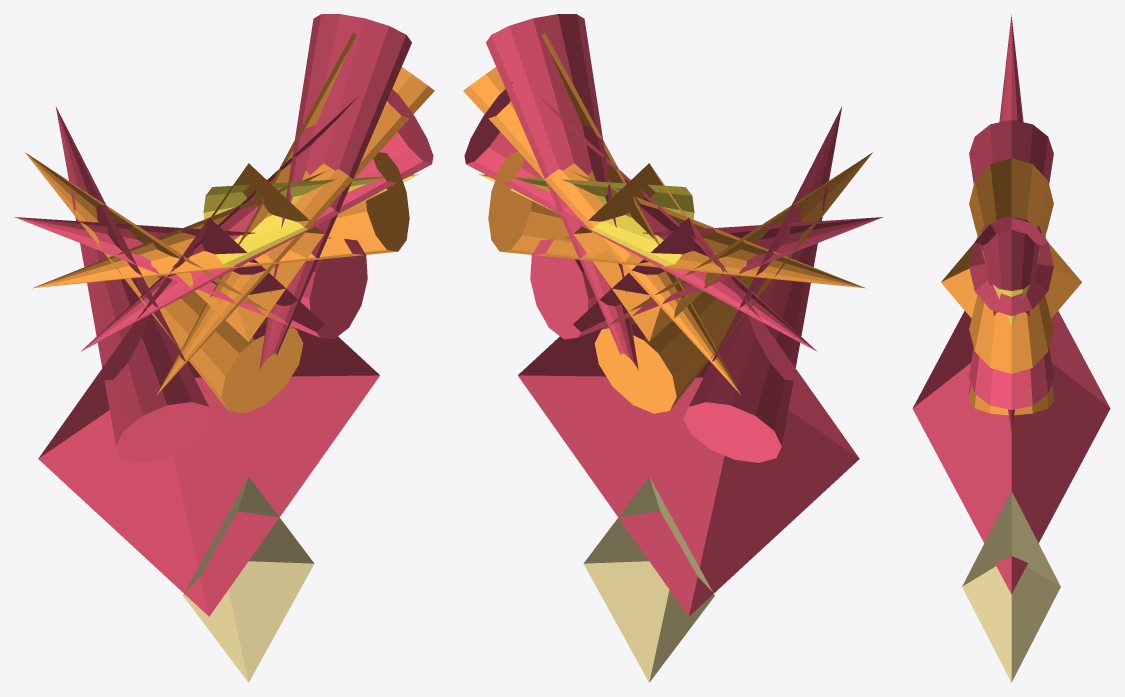
File: minglora_phoenix.gltf
The picture shows the model from 3 angles, left to right: view 1: azimuth 30°, elevation 25°; view 2: azimuth 150°, elevation 25°; view 3: azimuth 270°, elevation 25°; orthographic projection. The views are drawn at different scales.
Parts seen in each view (by area): view 1: minglora_phoenix_0, minglora_phoenix_3, minglora_phoenix_9, minglora_phoenix_4, minglora_phoenix_10, minglora_phoenix_6, minglora_phoenix_8, minglora_phoenix_5, minglora_phoenix_7, minglora_phoenix_1, minglora_phoenix_2; view 2: minglora_phoenix_0, minglora_phoenix_3, minglora_phoenix_9, minglora_phoenix_4, minglora_phoenix_10, minglora_phoenix_6, minglora_phoenix_8, minglora_phoenix_5, minglora_phoenix_7, minglora_phoenix_1, minglora_phoenix_2; view 3: minglora_phoenix_0, minglora_phoenix_10, minglora_phoenix_9, minglora_phoenix_8, minglora_phoenix_6, minglora_phoenix_7, minglora_phoenix_5, minglora_phoenix_1, minglora_phoenix_3, minglora_phoenix_4.
Part boxes in pixels (left/top/right/bottom): minglora_phoenix_0: left=38, top=217, right=379, bottom=616; minglora_phoenix_3: left=55, top=106, right=214, bottom=462; minglora_phoenix_9: left=253, top=14, right=411, bottom=410; minglora_phoenix_4: left=25, top=152, right=303, bottom=413; minglora_phoenix_10: left=183, top=476, right=314, bottom=682; minglora_phoenix_6: left=32, top=152, right=409, bottom=288; minglora_phoenix_8: left=157, top=33, right=434, bottom=394; minglora_phoenix_5: left=14, top=217, right=367, bottom=339; minglora_phoenix_7: left=80, top=82, right=433, bottom=351; minglora_phoenix_1: left=173, top=163, right=323, bottom=341; minglora_phoenix_2: left=203, top=174, right=419, bottom=265; minglora_phoenix_0: left=518, top=217, right=859, bottom=616; minglora_phoenix_3: left=683, top=106, right=842, bottom=462; minglora_phoenix_9: left=486, top=14, right=644, bottom=410; minglora_phoenix_4: left=594, top=152, right=872, bottom=413; minglora_phoenix_10: left=583, top=476, right=714, bottom=682; minglora_phoenix_6: left=488, top=152, right=865, bottom=288; minglora_phoenix_8: left=463, top=33, right=740, bottom=394; minglora_phoenix_5: left=530, top=217, right=883, bottom=339; minglora_phoenix_7: left=464, top=82, right=817, bottom=351; minglora_phoenix_1: left=574, top=163, right=724, bottom=341; minglora_phoenix_2: left=478, top=174, right=694, bottom=265; minglora_phoenix_0: left=912, top=311, right=1110, bottom=594; minglora_phoenix_10: left=962, top=491, right=1060, bottom=682; minglora_phoenix_9: left=969, top=120, right=1053, bottom=432; minglora_phoenix_8: left=969, top=158, right=1053, bottom=267; minglora_phoenix_6: left=969, top=295, right=1053, bottom=373; minglora_phoenix_7: left=969, top=217, right=1053, bottom=315; minglora_phoenix_5: left=969, top=347, right=1053, bottom=409; minglora_phoenix_1: left=941, top=243, right=1081, bottom=318; minglora_phoenix_3: left=969, top=14, right=1053, bottom=393; minglora_phoenix_4: left=969, top=384, right=1053, bottom=415.
Bounding box in the file's own units: 1.26 × 1.86 × 0.56.
